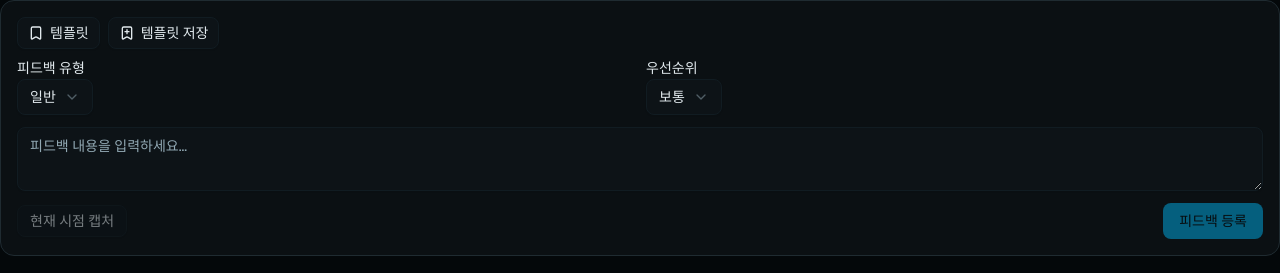
Test case: FeedbackForm › enables submit when textarea has content
Type "자막 수정 필요" into the text box with placeholder "피드백 내용을 입력하세요...".
click(640, 159); type("자막 수정 필요")  # box [17,127,1263,191]
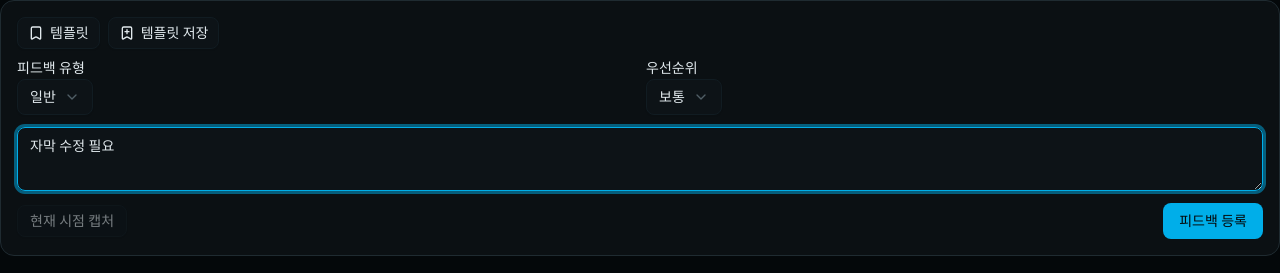
expect the button "피드백 등록" is enabled: met, box [1163,203,1263,239]
